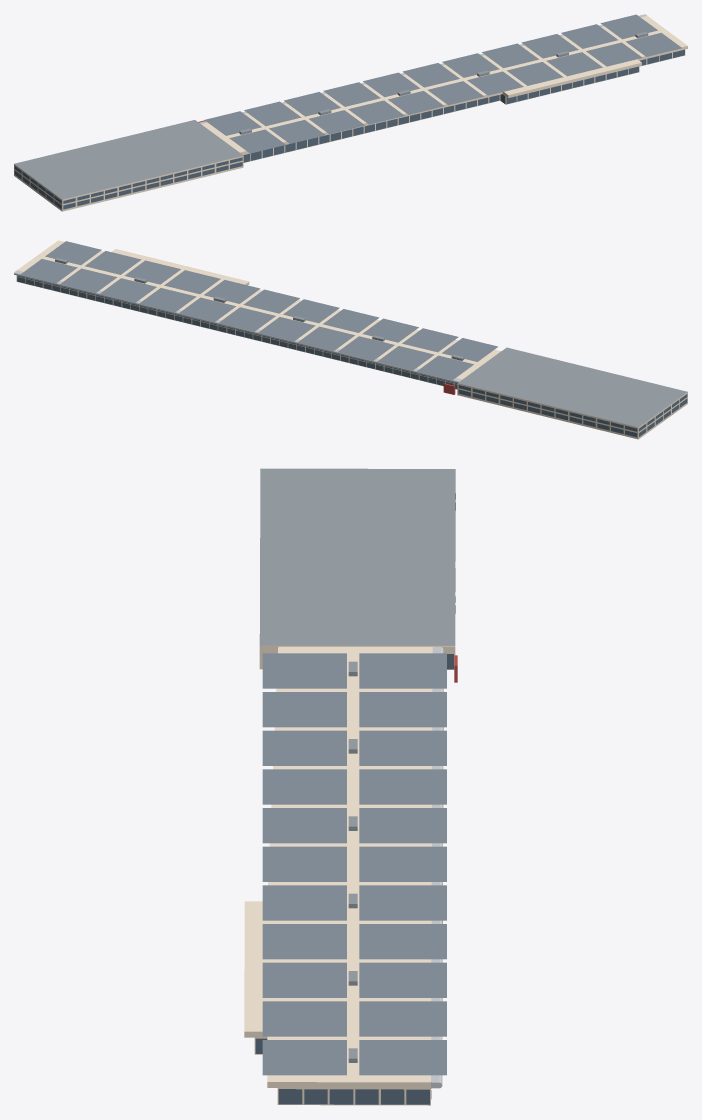
File: dubai-dxb-terminal-2.glb
The picture shows the model from 3 angles, top to bottom: view 1: azimuth 30°, elevation 25°; view 2: azimuth 150°, elevation 25°; view 3: azimuth 270°, elevation 25°; orthographic projection. The views are drawn at different scales.
Parts seen in each view (by area): view 1: Dubai International Airport Terminal 2; view 2: Dubai International Airport Terminal 2; view 3: Dubai International Airport Terminal 2.
Part boxes in pixels (x1,y1,x2,y2): Dubai International Airport Terminal 2: (14, 14, 687, 211); Dubai International Airport Terminal 2: (14, 240, 687, 439); Dubai International Airport Terminal 2: (244, 468, 457, 1105).
Bounding box in the file's own units: 708 × 14.8 × 104.
